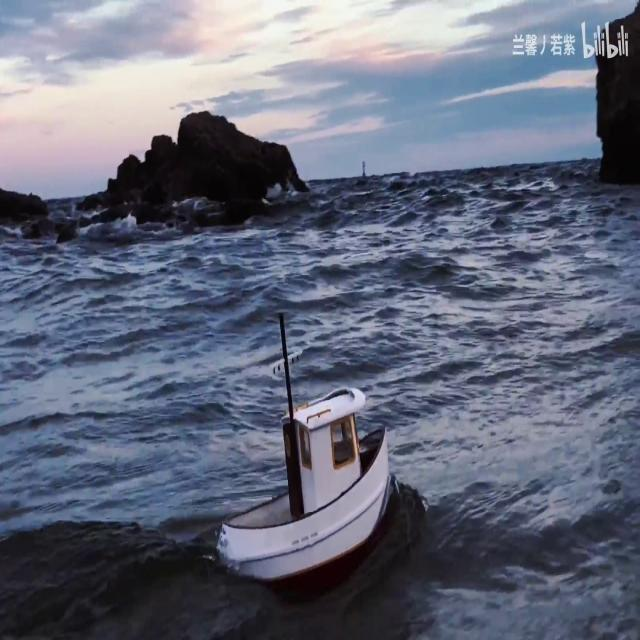houseboat: (216, 330, 388, 582)
